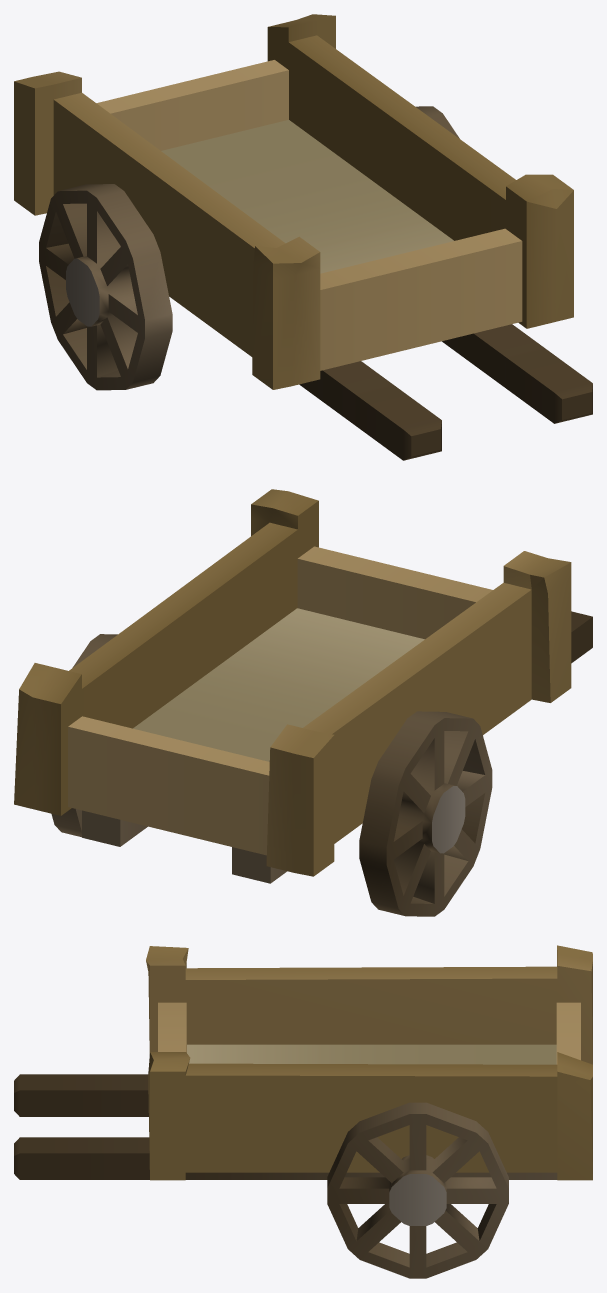
File: Cart.gltf
3 views of the same model, one above another, from view 1: azimuth 30°, elevation 25°; view 2: azimuth 150°, elevation 25°; view 3: azimuth 270°, elevation 25° (orthographic). The views are drawn at different scales.
Parts seen in each view (by area): view 1: Cart_Body, Cart_Wheels, Cart_Handles; view 2: Cart_Body, Cart_Wheels, Cart_Handles; view 3: Cart_Body, Cart_Wheels, Cart_Handles.
Part boxes in pixels (box(x1,y1,x2,y2)): Cart_Body: box(14, 14, 573, 389); Cart_Wheels: box(39, 106, 459, 390); Cart_Handles: box(299, 324, 592, 460); Cart_Body: box(14, 489, 571, 876); Cart_Wheels: box(51, 634, 492, 916); Cart_Handles: box(82, 611, 592, 883); Cart_Body: box(146, 945, 592, 1180); Cart_Wheels: box(327, 1102, 508, 1278); Cart_Handles: box(14, 1074, 557, 1179).
Size of the model in its own units: 1.45 by 0.8994 by 2.34.
Materials: 1 (1 with a texture image).
